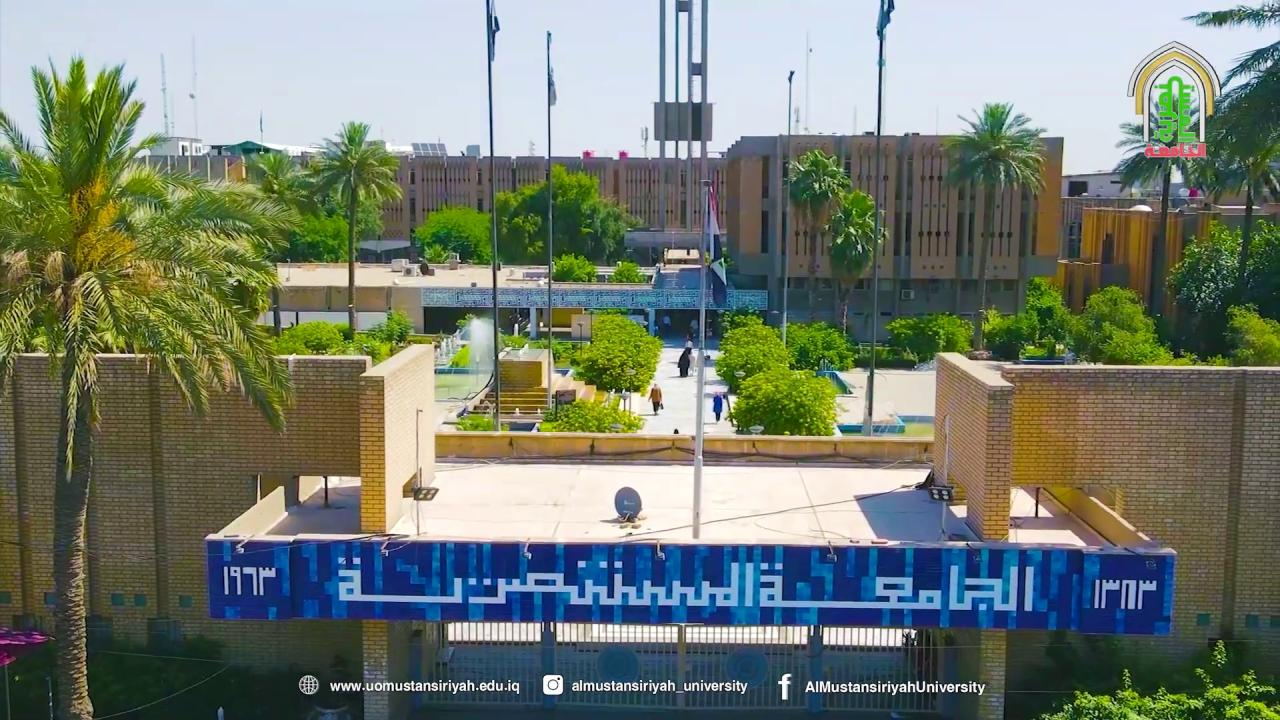car: (536, 274, 548, 286)
fountain: (432, 312, 499, 410)
person: (648, 382, 662, 415), (677, 348, 691, 378), (712, 391, 723, 422), (620, 387, 630, 411)
tree: (0, 49, 301, 717), (491, 160, 641, 407), (938, 100, 1049, 353), (306, 119, 403, 333), (782, 147, 888, 332), (1034, 638, 1278, 718), (1201, 85, 1279, 304), (1164, 217, 1279, 359), (493, 162, 639, 270), (1181, 1, 1279, 102), (570, 310, 663, 414), (825, 188, 887, 332), (726, 364, 840, 435), (247, 148, 318, 262), (1070, 284, 1162, 364), (782, 147, 851, 234), (714, 321, 794, 393), (885, 310, 973, 367), (410, 204, 491, 265), (298, 207, 383, 264), (1018, 274, 1074, 356), (782, 319, 856, 372), (365, 306, 413, 359), (550, 251, 598, 283), (717, 306, 763, 337)
